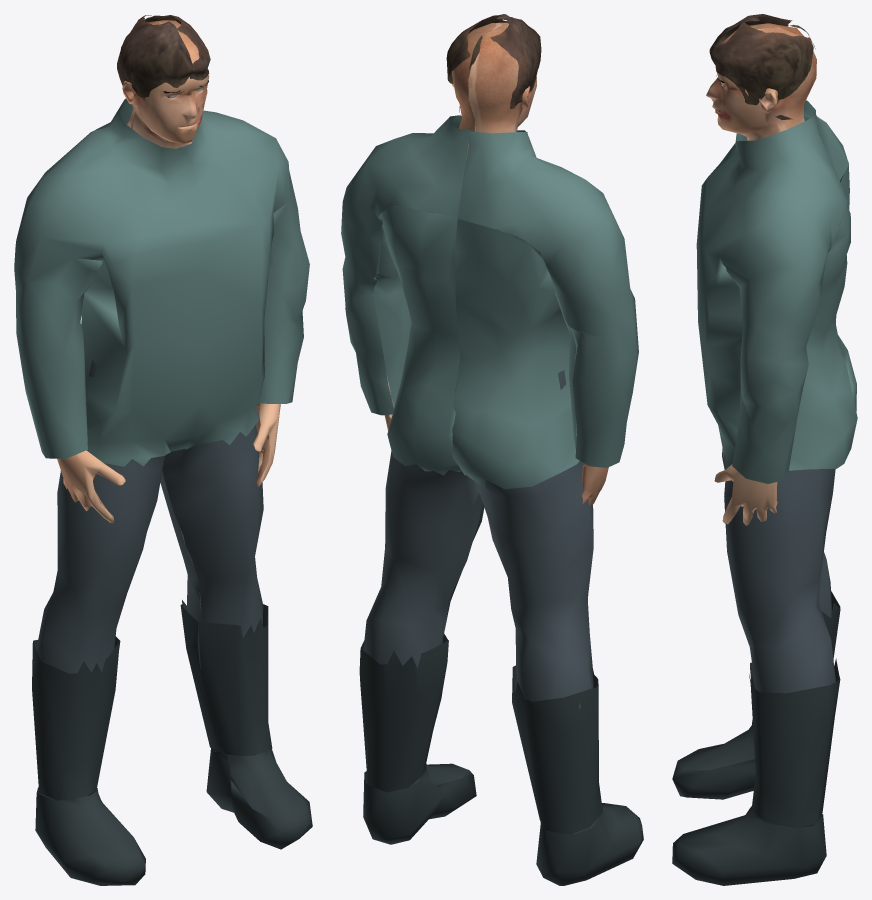
The model's file is male-standing.glb.
3 views of the same model, side by side, from view 1: azimuth 30°, elevation 25°; view 2: azimuth 150°, elevation 25°; view 3: azimuth 270°, elevation 25° (orthographic).
Visible parts, largest first — view 1: LOD_tunic, LOD_boots, LOD_trousers, LOD_skin, LOD_hair; view 2: LOD_tunic, LOD_trousers, LOD_boots, LOD_skin, LOD_hair; view 3: LOD_tunic, LOD_boots, LOD_trousers, LOD_skin, LOD_hair.
Boxes of the visible parts, <box> form: LOD_tunic: <box>14,98,309,466</box>; LOD_boots: <box>32,600,312,885</box>; LOD_trousers: <box>33,360,263,673</box>; LOD_skin: <box>57,20,280,523</box>; LOD_hair: <box>117,15,210,97</box>; LOD_tunic: <box>341,115,638,489</box>; LOD_trousers: <box>363,370,593,709</box>; LOD_boots: <box>359,633,643,885</box>; LOD_skin: <box>384,22,608,506</box>; LOD_hair: <box>446,14,541,115</box>; LOD_tunic: <box>696,100,857,483</box>; LOD_boots: <box>672,591,840,885</box>; LOD_trousers: <box>722,448,835,693</box>; LOD_skin: <box>706,23,816,525</box>; LOD_hair: <box>709,14,815,119</box>.
Size of the model in its own units: 0.6834 by 1.89 by 0.3891.
7 materials, 4 textured.
